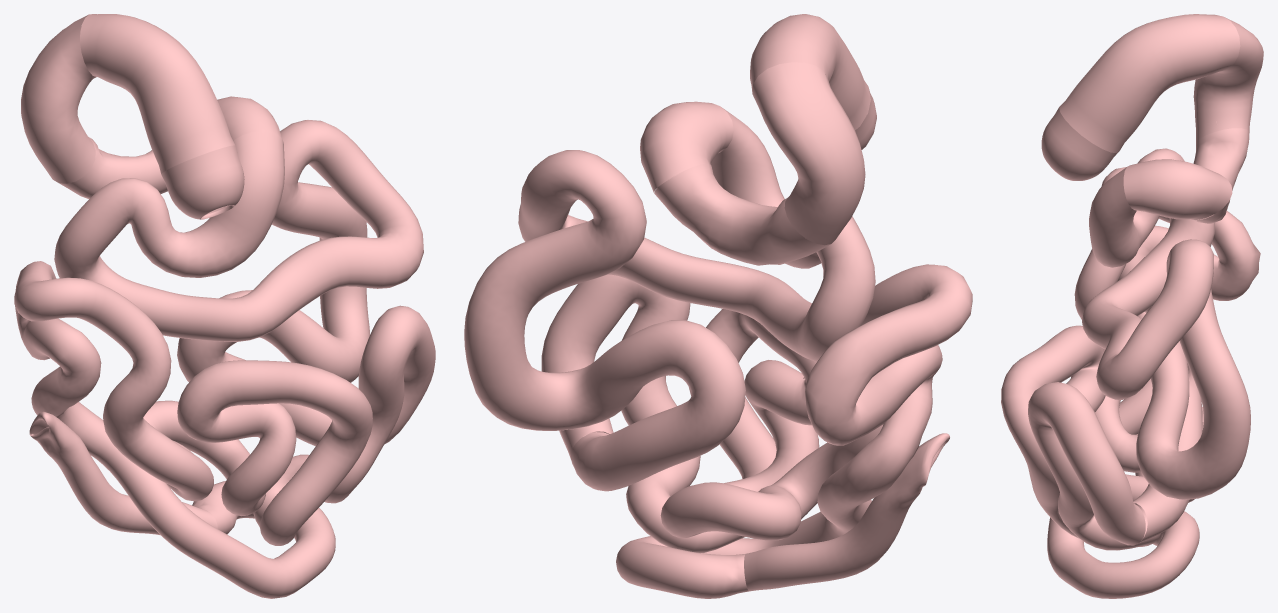
Rendered from hra-small-intestine-female-v1.glb.
The picture shows the model from 3 angles, left to right: view 1: azimuth 30°, elevation 25°; view 2: azimuth 150°, elevation 25°; view 3: azimuth 270°, elevation 25°; orthographic projection. The views are drawn at different scales.
Visible parts, largest first — view 1: VH_F_ileum, VH_F_jejenum, VH_F_duodenum_superior, VH_F_duodenum_descending, VH_F_ileum_terminal, VH_F_duodenal_ampulla, VH_F_duodenum_horizontal, VH_F_duodenum_ascending; view 2: VH_F_ileum, VH_F_jejenum, VH_F_duodenum_descending, VH_F_ileum_terminal, VH_F_duodenum_horizontal, VH_F_duodenum_superior, VH_F_duodenum_ascending; view 3: VH_F_jejenum, VH_F_ileum, VH_F_duodenum_superior, VH_F_duodenum_ascending, VH_F_duodenum_descending, VH_F_duodenal_ampulla, VH_F_duodenum_horizontal.
Part boxes in pixels (x1,y1,x2,y2): VH_F_ileum: (14, 261, 435, 598); VH_F_jejenum: (54, 120, 423, 446); VH_F_duodenum_superior: (80, 14, 234, 173); VH_F_duodenum_descending: (21, 14, 96, 183); VH_F_ileum_terminal: (29, 411, 217, 535); VH_F_duodenal_ampulla: (161, 145, 244, 219); VH_F_duodenum_horizontal: (59, 137, 167, 198); VH_F_duodenum_ascending: (217, 96, 281, 140); VH_F_ileum: (541, 264, 972, 598); VH_F_jejenum: (464, 107, 875, 491); VH_F_duodenum_descending: (752, 62, 865, 245); VH_F_ileum_terminal: (744, 433, 949, 591); VH_F_duodenum_horizontal: (654, 163, 830, 265); VH_F_duodenum_superior: (750, 14, 870, 130); VH_F_duodenum_ascending: (640, 101, 733, 193); VH_F_jejenum: (1082, 148, 1250, 542); VH_F_ileum: (1001, 167, 1260, 598); VH_F_duodenum_superior: (1059, 14, 1240, 153); VH_F_duodenum_ascending: (1123, 159, 1232, 219); VH_F_duodenum_descending: (1193, 17, 1263, 142); VH_F_duodenal_ampulla: (1041, 108, 1119, 180); VH_F_duodenum_horizontal: (1193, 128, 1249, 223).
Bounding box in the file's own units: 0.1616 × 0.2172 × 0.1.
